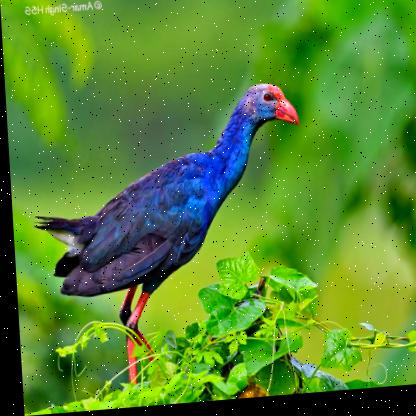Burung: (33, 85, 314, 399)
